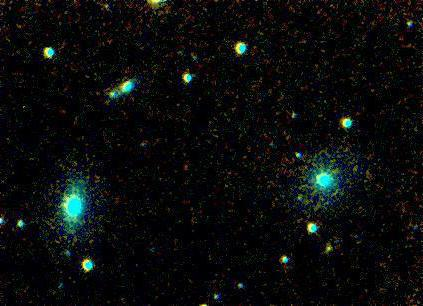star: (314, 233, 344, 263)
